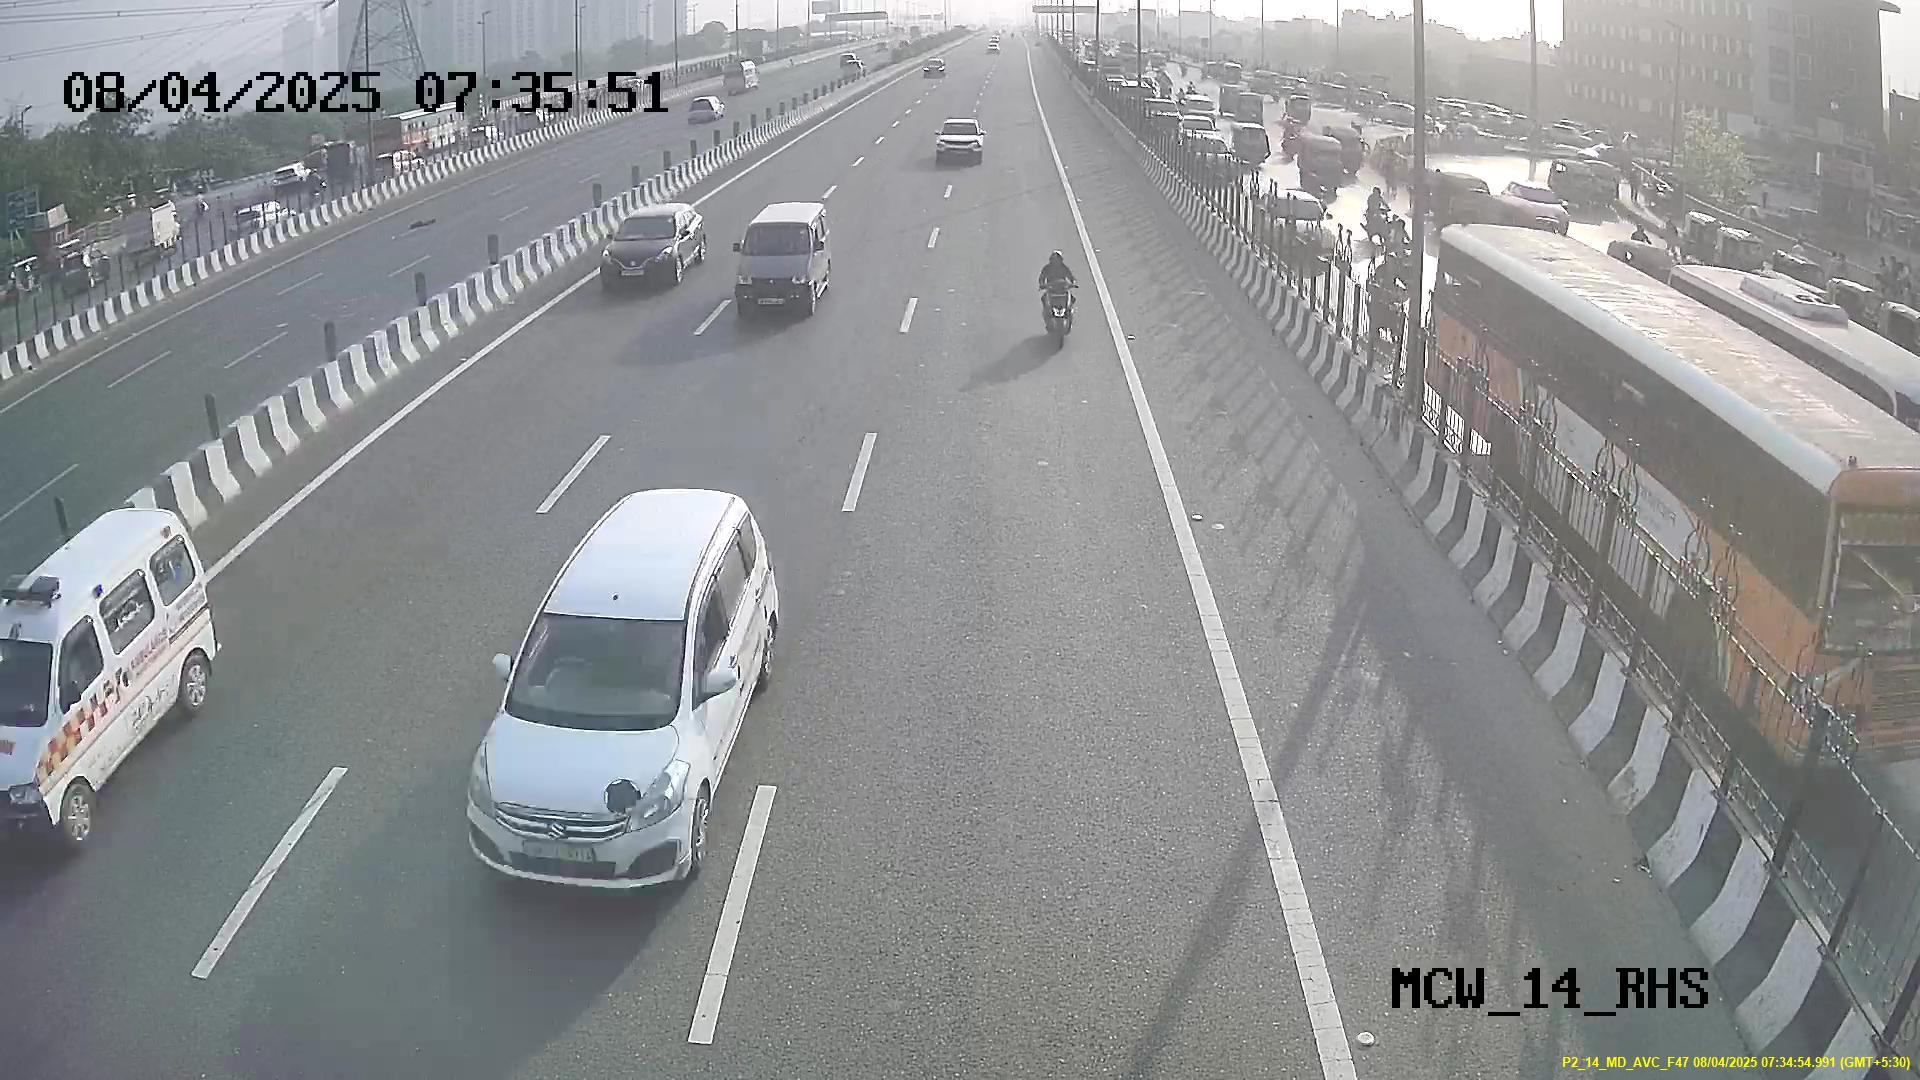bike: (1025, 237, 1079, 353)
car: (460, 570, 742, 890), (733, 199, 840, 323), (600, 202, 709, 294)
